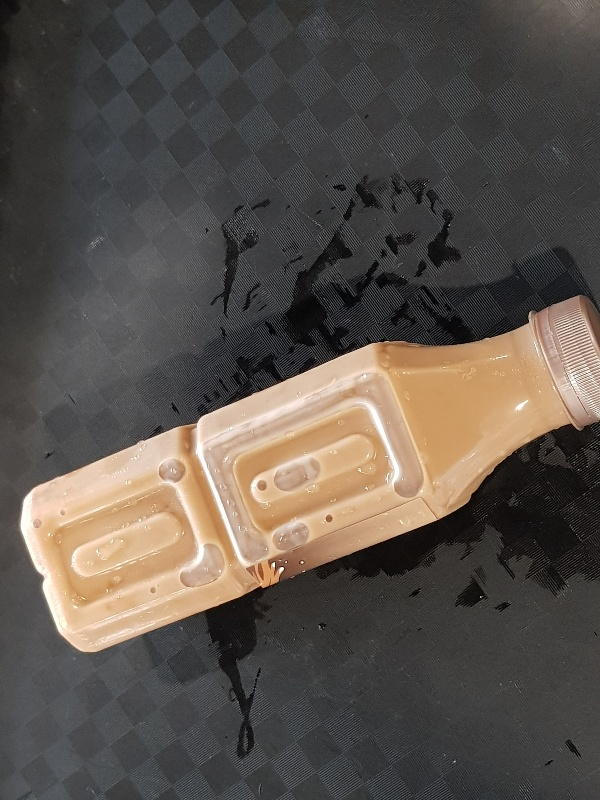Mocha: (17, 292, 600, 655)
